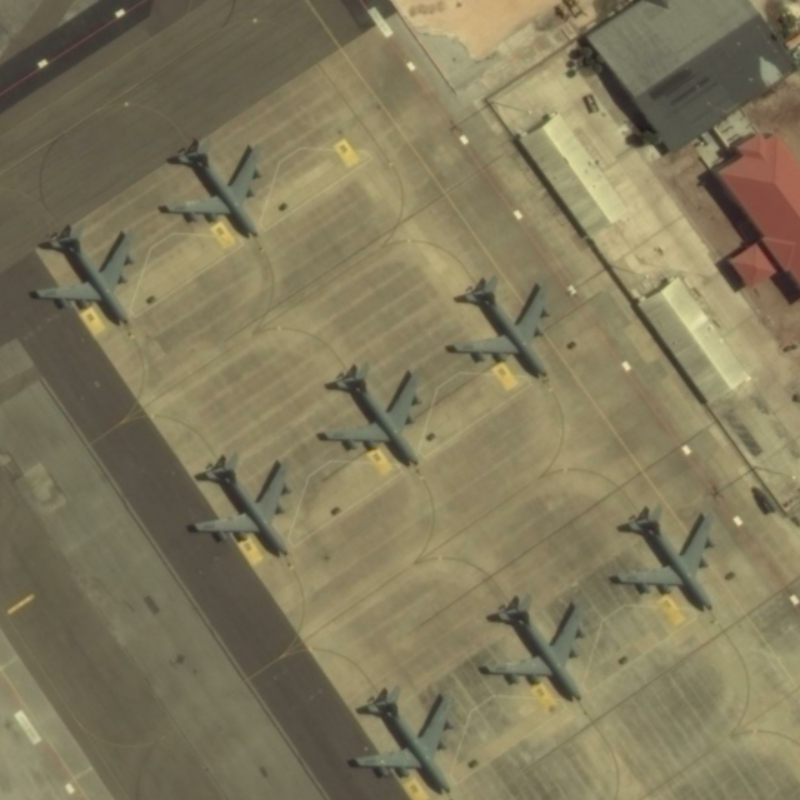A14: (476, 592, 589, 706), (349, 680, 459, 796), (187, 447, 296, 563), (315, 360, 426, 473), (442, 271, 556, 379), (31, 217, 141, 328), (156, 133, 267, 243), (613, 500, 720, 614)
